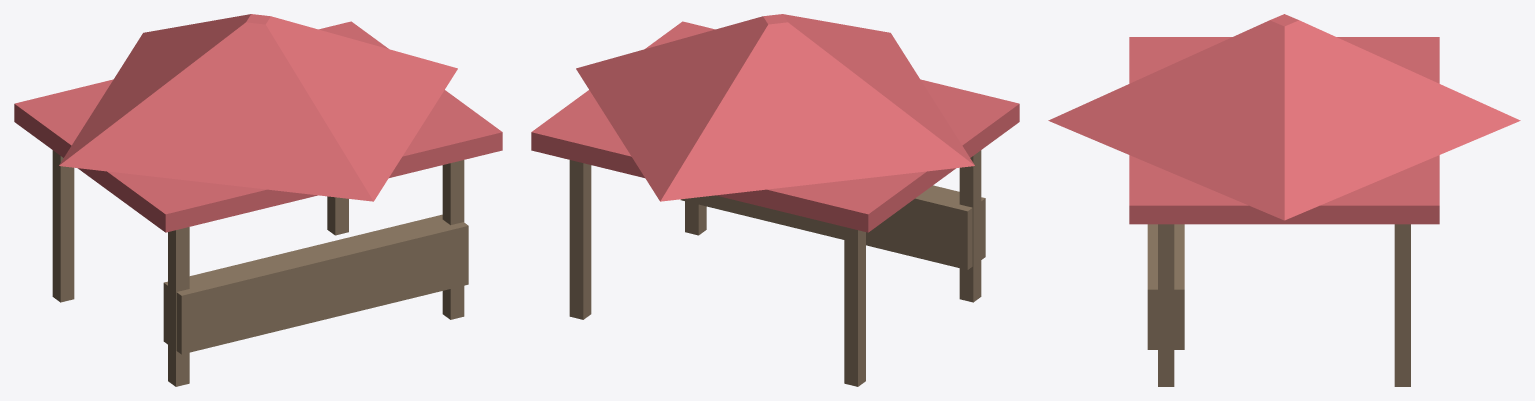
Rendered from camp.gltf.
3 renders of one model, left to right at view 1: azimuth 30°, elevation 25°; view 2: azimuth 150°, elevation 25°; view 3: azimuth 270°, elevation 25°, orthographic. The views are drawn at different scales.
Visible parts, largest first — view 1: wildlands-prop; view 2: wildlands-prop; view 3: wildlands-prop.
Boxes of the visible parts, x1,y1,x2,y2 form: wildlands-prop: (14, 14, 502, 386); wildlands-prop: (531, 14, 1019, 386); wildlands-prop: (1048, 14, 1520, 386).
Bounding box in the file's own units: 6.4 × 4.4 × 6.4.
